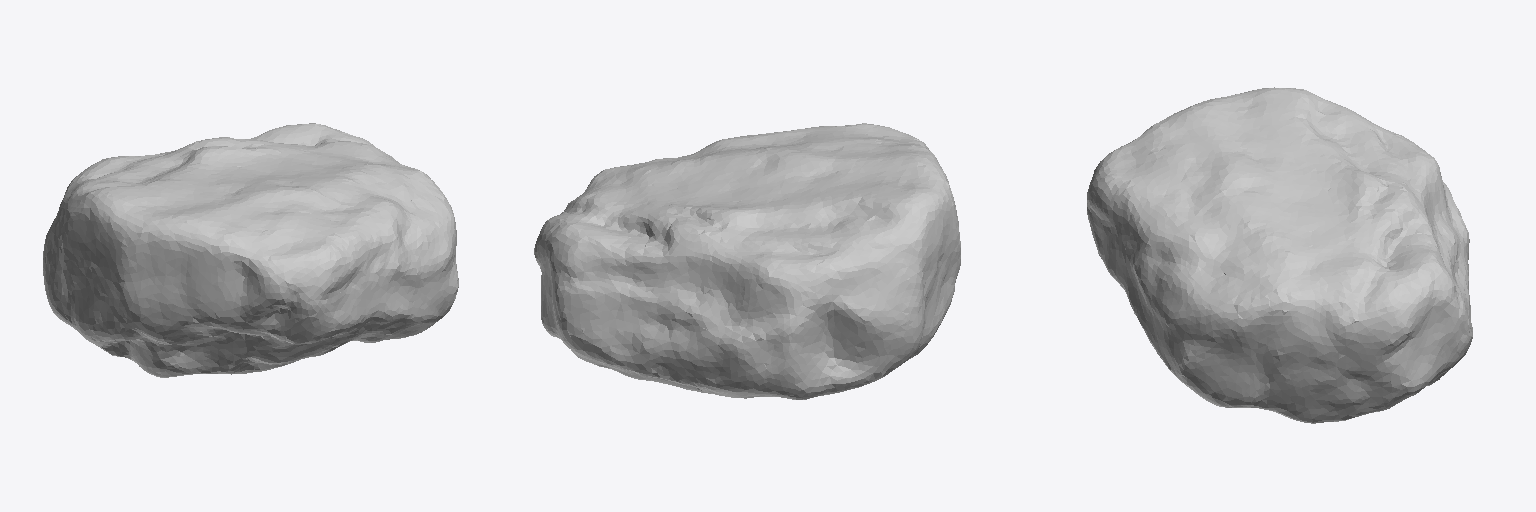
Rendered from stone_6.obj.
3 renders of one model, left to right at view 1: azimuth 30°, elevation 25°; view 2: azimuth 150°, elevation 25°; view 3: azimuth 270°, elevation 25°, orthographic.
Parts seen in each view (by area): view 1: Rock.001; view 2: Rock.001; view 3: Rock.001.
Part boxes in pixels (left/top/right/bottom): Rock.001: left=43, top=123, right=458, bottom=377; Rock.001: left=534, top=123, right=960, bottom=399; Rock.001: left=1087, top=87, right=1472, bottom=423.
Bounding box in the file's own units: 0.5368 × 0.2749 × 0.5027.